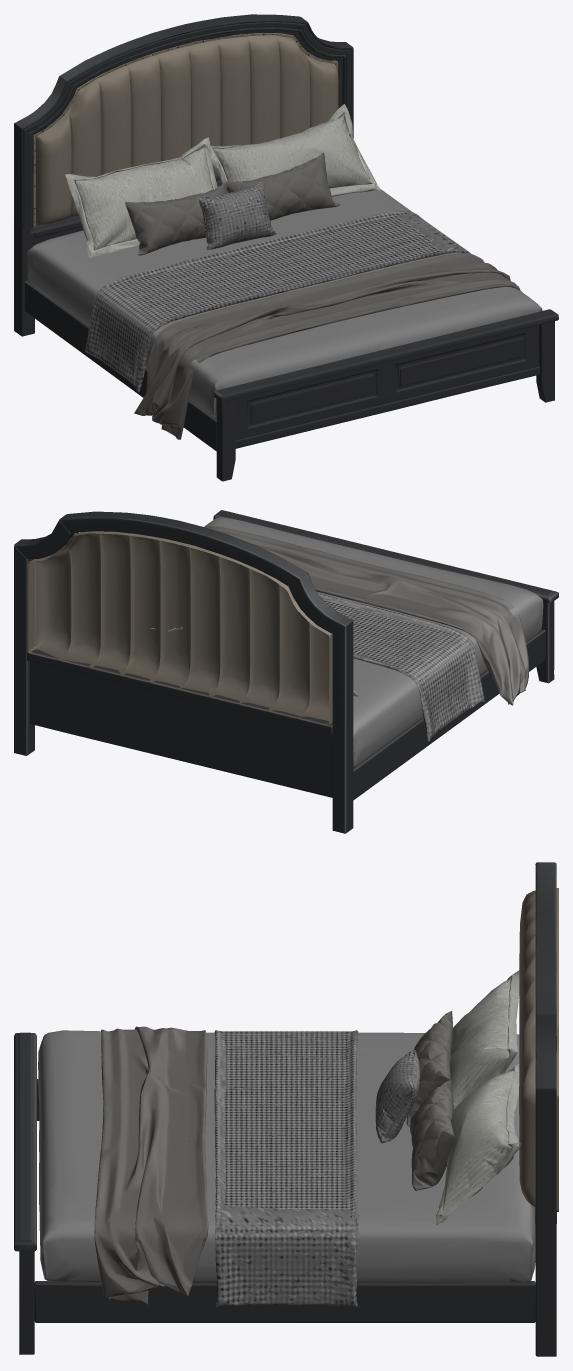
The model's file is Bed0.obj.
3 renders of one model, top to bottom at view 1: azimuth 30°, elevation 25°; view 2: azimuth 150°, elevation 25°; view 3: azimuth 270°, elevation 25°, orthographic. The views are drawn at different scales.
Visible parts, largest first — view 1: solid_001, solid_002, solid_006, solid_005, solid_007, solid_004; view 2: solid_001, solid_002, solid_005, solid_007, solid_006; view 3: solid_006, solid_007, solid_005, solid_001, solid_004, solid_002.
Boxes of the visible parts, left/top/right/bottom form: solid_001: left=14, top=14, right=558, bottom=481; solid_002: left=33, top=33, right=338, bottom=228; solid_006: left=85, top=182, right=470, bottom=392; solid_005: left=124, top=152, right=521, bottom=439; solid_007: left=27, top=183, right=542, bottom=417; solid_004: left=65, top=104, right=380, bottom=257; solid_001: left=14, top=510, right=558, bottom=833; solid_002: left=28, top=531, right=332, bottom=726; solid_005: left=204, top=526, right=528, bottom=705; solid_007: left=204, top=517, right=543, bottom=767; solid_006: left=318, top=593, right=485, bottom=742; solid_006: left=214, top=1030, right=420, bottom=1307; solid_007: left=38, top=1030, right=535, bottom=1282; solid_005: left=94, top=1011, right=455, bottom=1304; solid_001: left=14, top=862, right=556, bottom=1356; solid_004: left=436, top=970, right=521, bottom=1225; solid_002: left=519, top=888, right=558, bottom=1211.
Bounding box in the file's own units: 1.7 × 1.15 × 1.66.
Materials: 1 (1 with a texture image).
